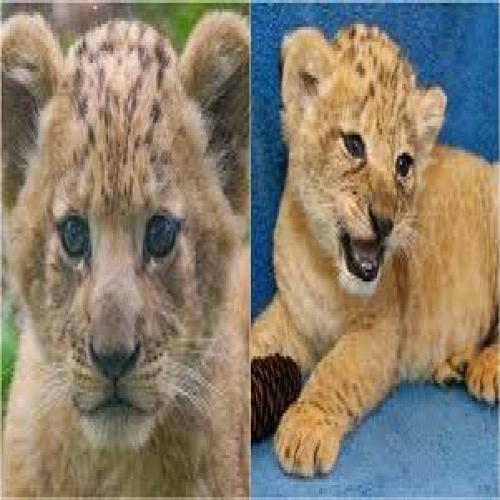lion-endangered: (2, 15, 247, 500), (268, 18, 500, 468)
